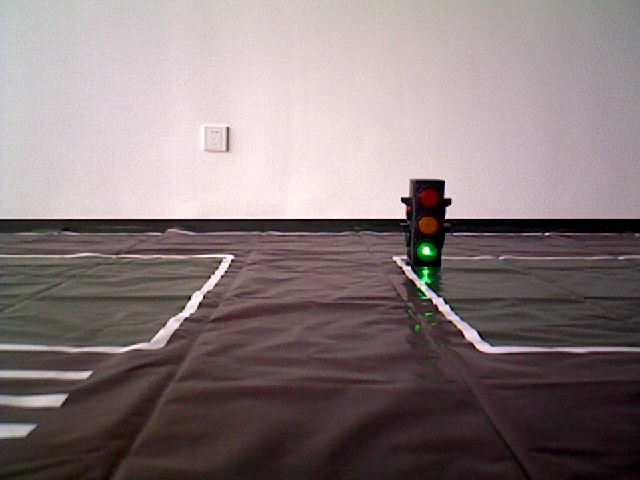green: (407, 181, 443, 263)
